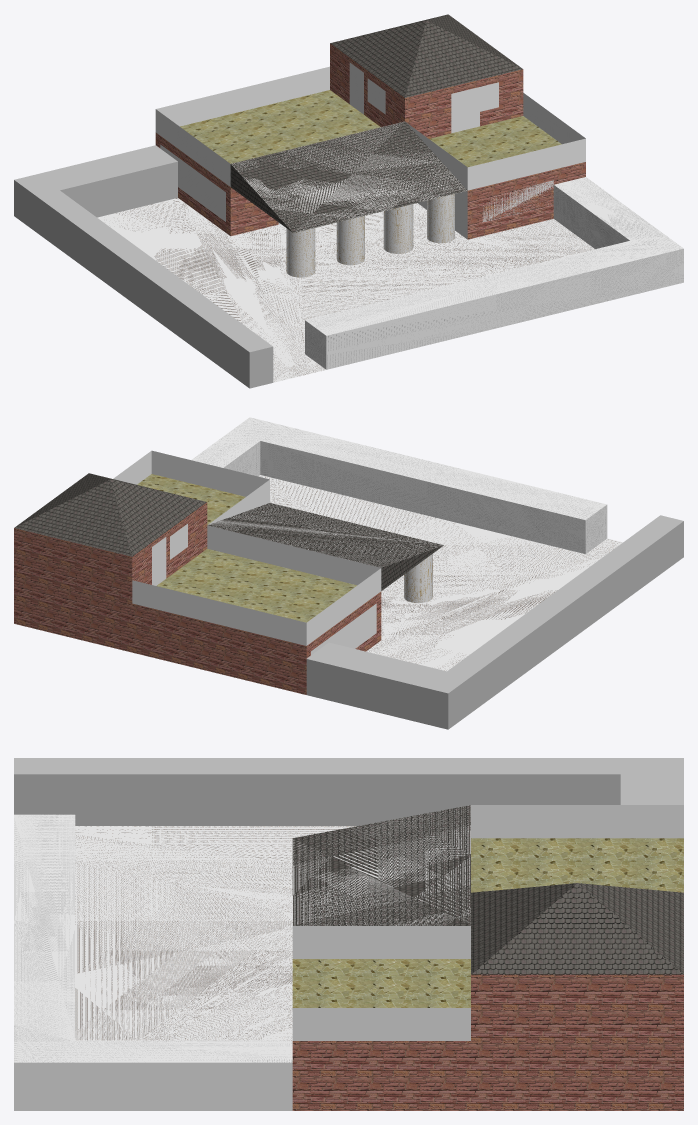
3 views of the same model, one above another, from view 1: azimuth 30°, elevation 25°; view 2: azimuth 150°, elevation 25°; view 3: azimuth 270°, elevation 25° (orthographic). The views are drawn at different scales.
Parts seen in each view (by area): view 1: SketchUp (×16); view 2: SketchUp (×12); view 3: SketchUp (×9).
Boxes of the visible parts, x1=… form: SketchUp (×16): x1=14, y1=14, x2=683, y2=388; SketchUp (×12): x1=14, y1=417, x2=683, y2=729; SketchUp (×9): x1=14, y1=758, x2=683, y2=1110.
Bounding box in the file's own units: 940 × 883 × 272.
